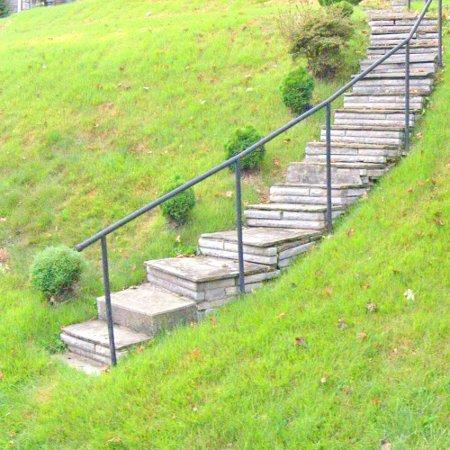stairs: (111, 230, 239, 356), (245, 129, 328, 292), (332, 48, 406, 218), (362, 5, 417, 70), (61, 298, 110, 370), (411, 18, 440, 126)
